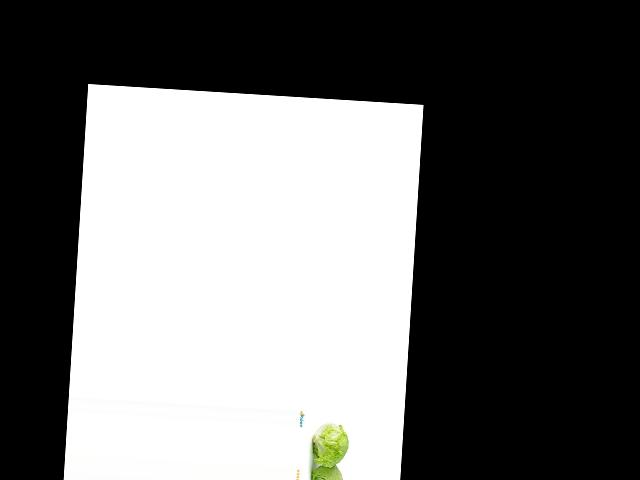lettuce: (302, 453, 344, 480)
